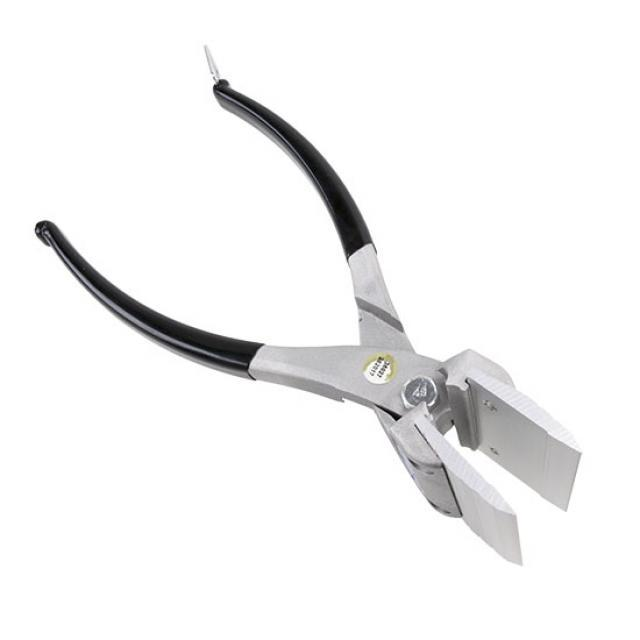pliers: (28, 35, 586, 575)
